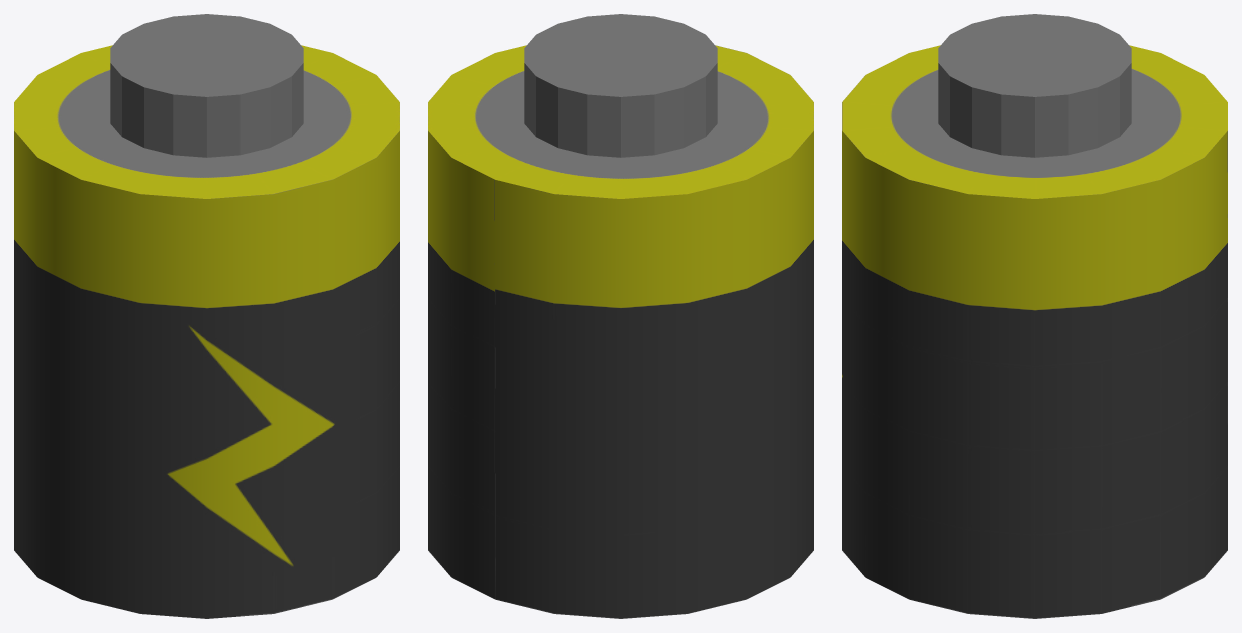
The model's file is Battery.fbx.
The picture shows the model from 3 angles, left to right: view 1: azimuth 30°, elevation 25°; view 2: azimuth 150°, elevation 25°; view 3: azimuth 270°, elevation 25°; orthographic projection.
Parts seen in each view (by area): view 1: Cylinder001; view 2: Cylinder001; view 3: Cylinder001.
Part boxes in pixels (left/top/right/bottom): Cylinder001: left=14, top=14, right=399, bottom=618; Cylinder001: left=428, top=14, right=813, bottom=618; Cylinder001: left=842, top=14, right=1227, bottom=618.
Size of the model in its own units: 58.3 by 78.97 by 57.42.
1 material, 1 textured.
